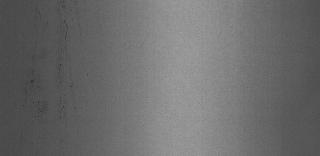inclusion: (24, 16, 46, 122)
water spot: (52, 3, 82, 118)
